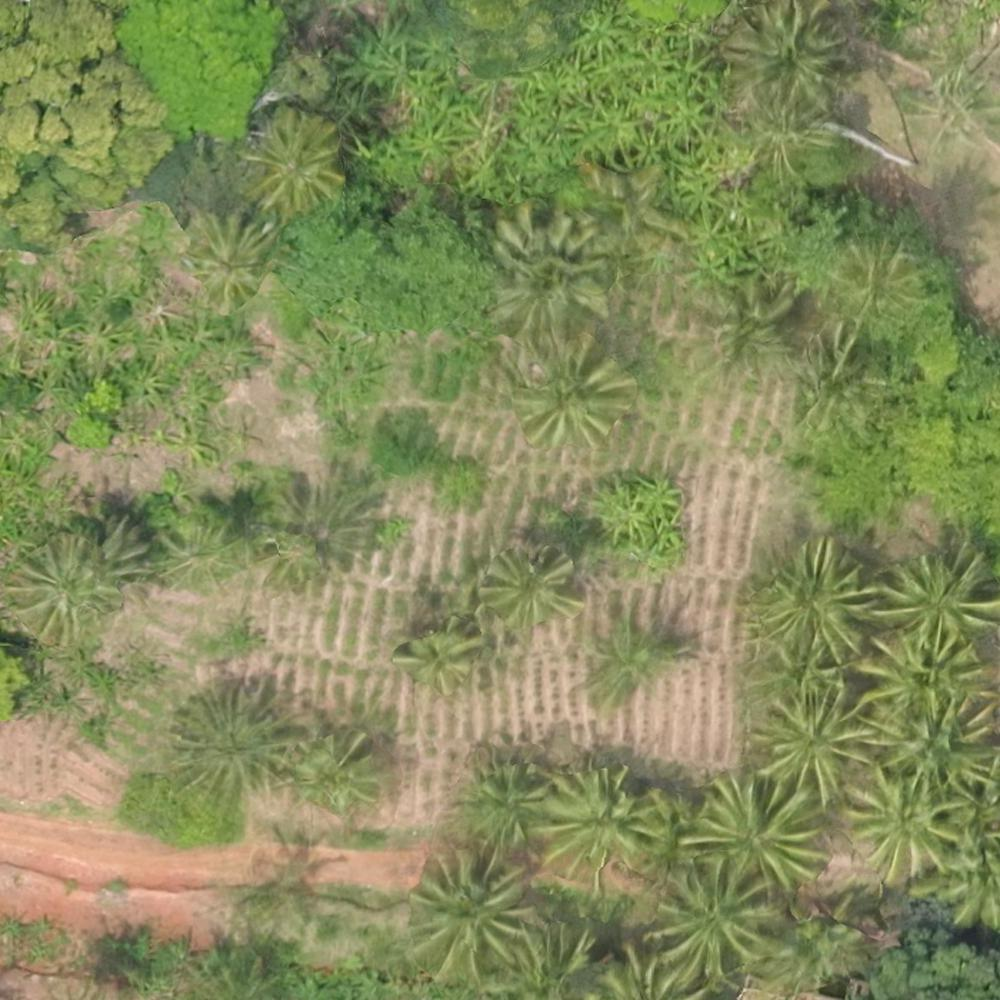Palm: (413, 852, 530, 977), (693, 772, 822, 885), (652, 865, 776, 975), (846, 767, 963, 878), (757, 543, 866, 662), (866, 692, 998, 789), (878, 549, 997, 651), (513, 339, 622, 445), (730, 9, 842, 112), (545, 767, 649, 876), (750, 683, 862, 783), (8, 535, 112, 639), (864, 632, 988, 719), (247, 115, 341, 207), (486, 546, 577, 629), (183, 217, 267, 302)
